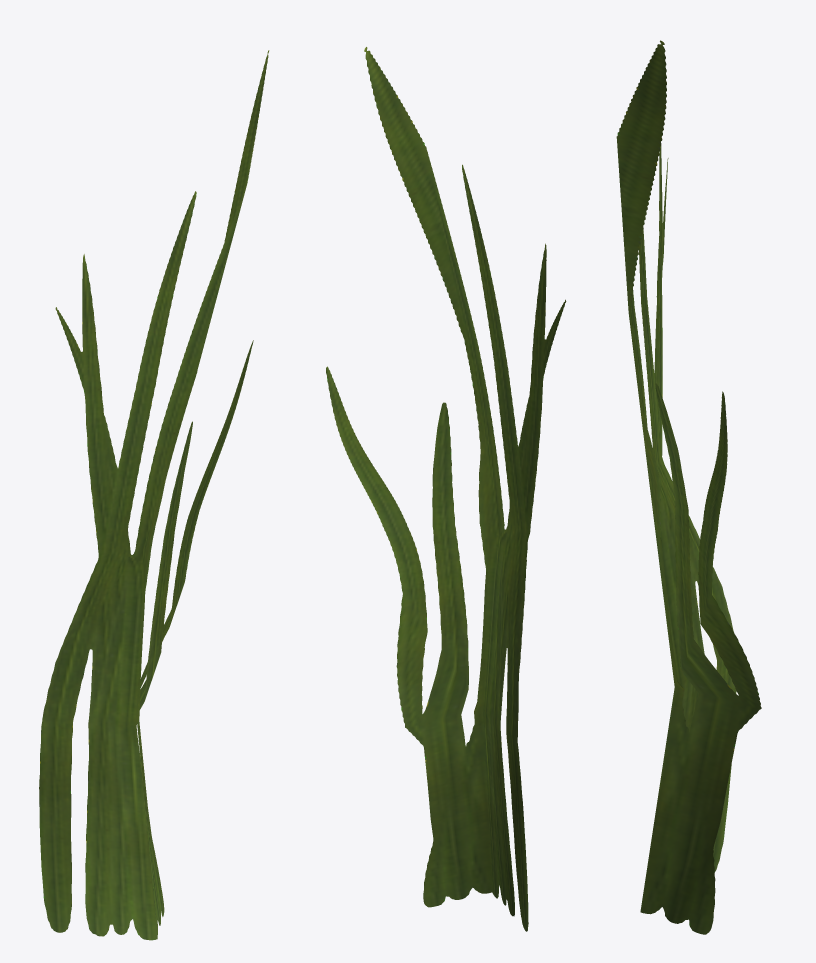
The picture shows the model from 3 angles, left to right: view 1: azimuth 30°, elevation 25°; view 2: azimuth 150°, elevation 25°; view 3: azimuth 270°, elevation 25°; orthographic projection. The views are drawn at different scales.
Visible parts, largest first — view 1: Posidonia_oceanica.003; view 2: Posidonia_oceanica.003; view 3: Posidonia_oceanica.003.
Boxes of the visible parts, bbox=[...] form: Posidonia_oceanica.003: bbox=[39, 50, 269, 940]; Posidonia_oceanica.003: bbox=[326, 47, 566, 931]; Posidonia_oceanica.003: bbox=[616, 40, 761, 934].
Size of the model in its own units: 0.3656 by 1.23 by 0.2225.
Materials: 1 (1 with a texture image).
